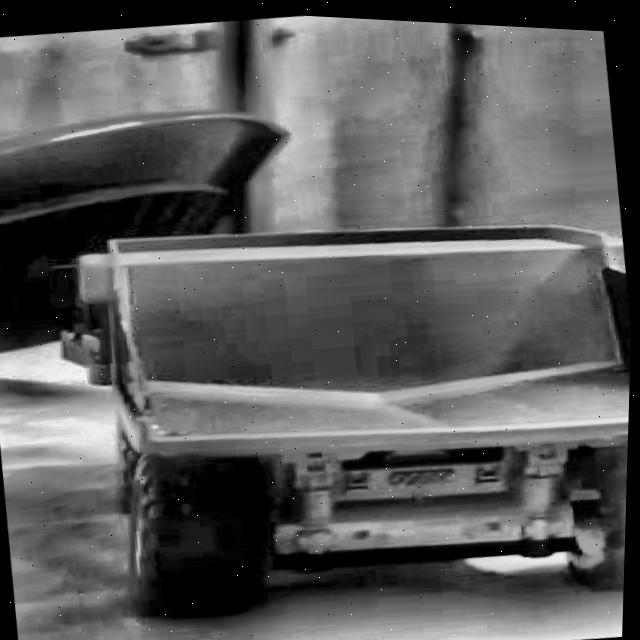dump_truck: (17, 162, 636, 640)
